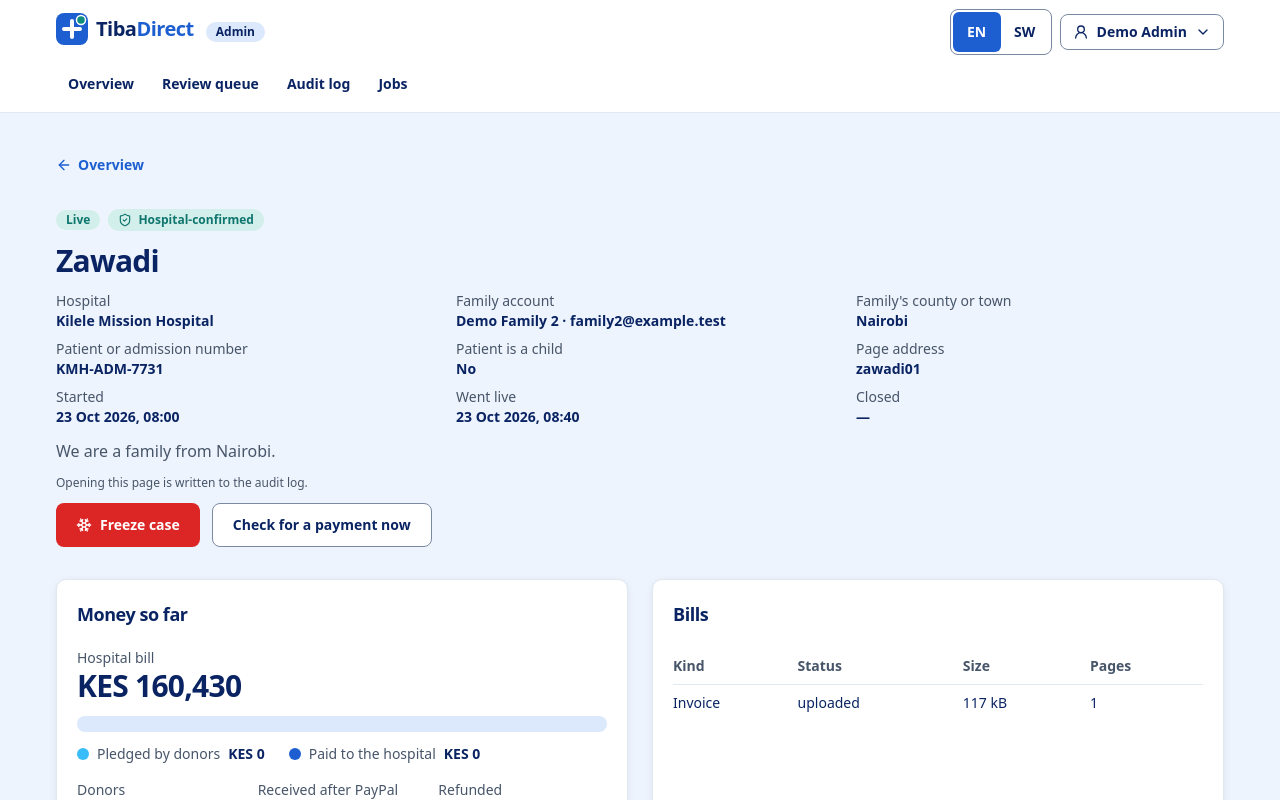
Test case: admin case detail › freezes a case only after a reason and an explicit confirmation
The width and height of the screenshot is (1280, 800).
Click the button "Freeze case" at (128, 525), box x1=56 y1=503 x2=200 y2=547
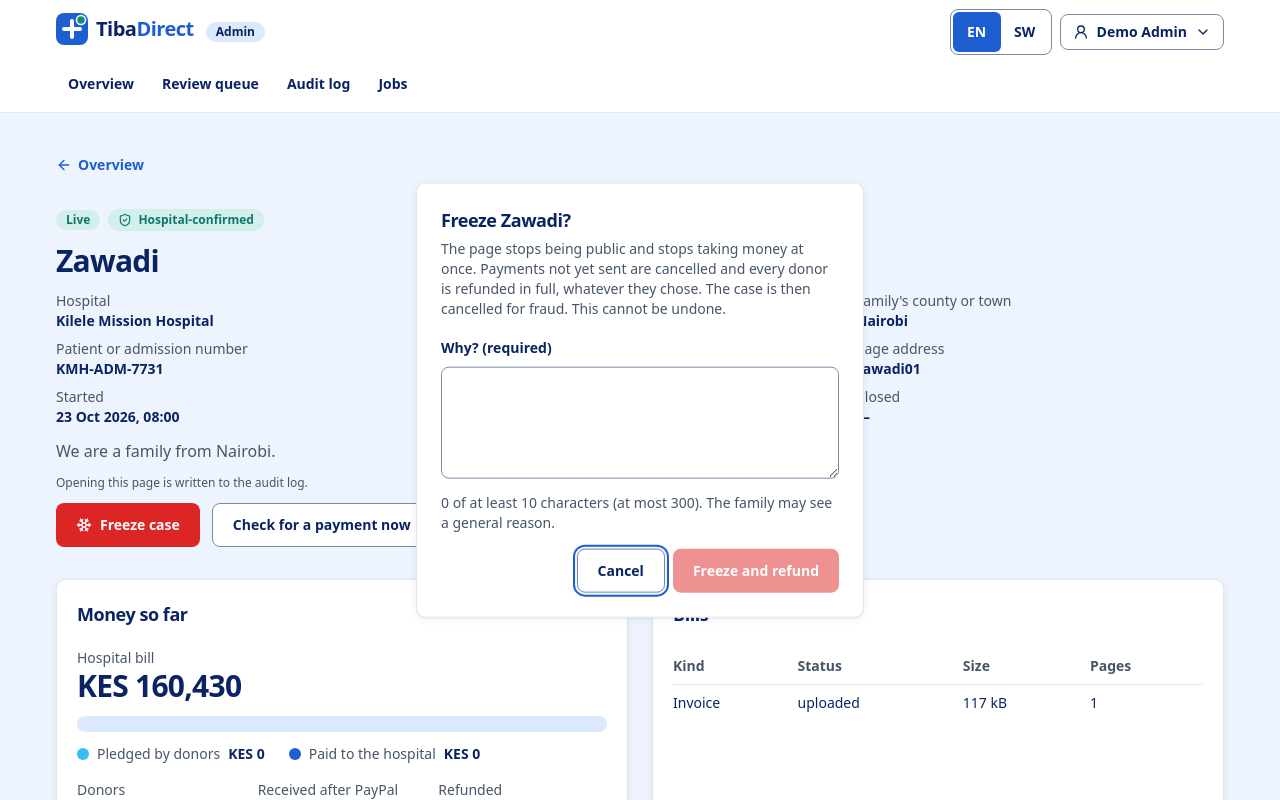
Expected: the text "every donor is refunded in full, whatever they chose" is shown, x1=441 y1=238 x2=828 y2=317
Expected: the button "Freeze and refund" is disabled, x1=673 y1=548 x2=839 y2=592
Type "Suspected fraud, see review item" into the text box labelled "Why? (required)" at (640, 422), box x1=441 y1=366 x2=839 y2=478
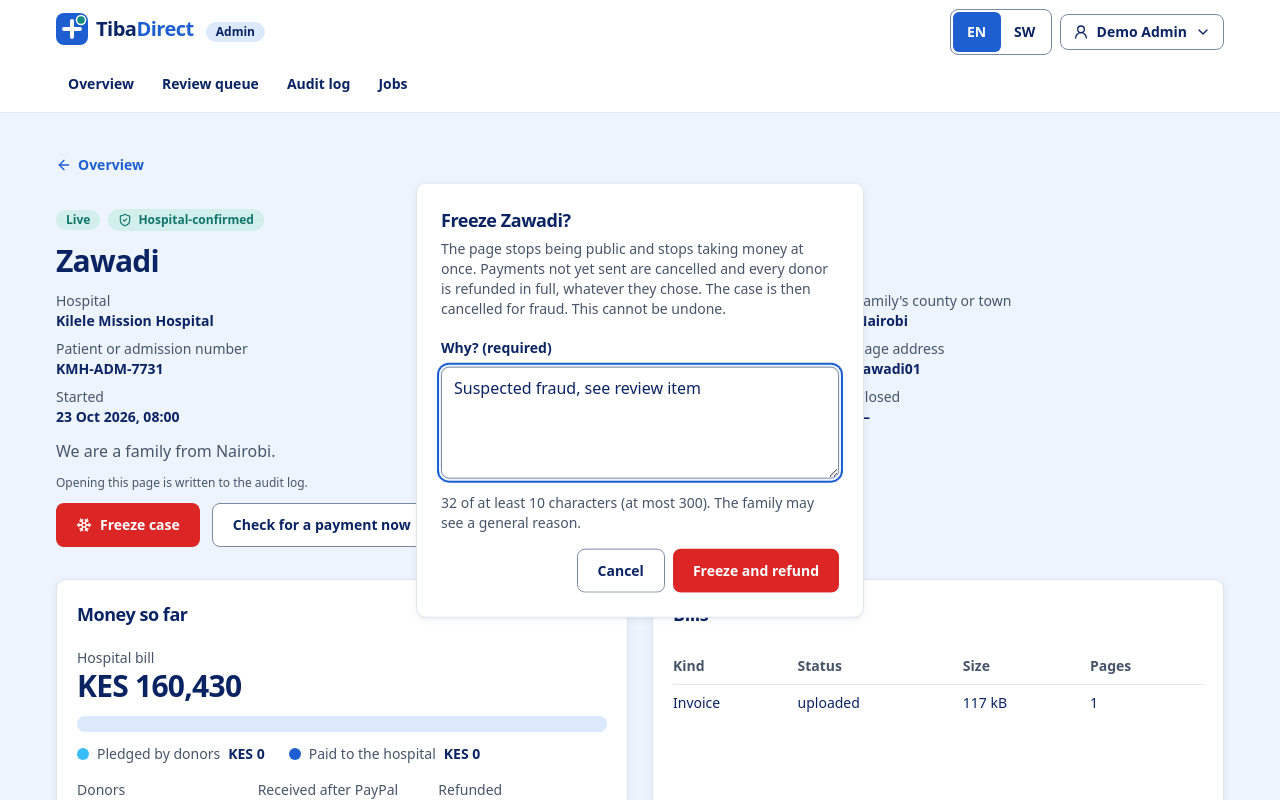
Click the button "Freeze and refund" at (756, 570), box x1=673 y1=548 x2=839 y2=592
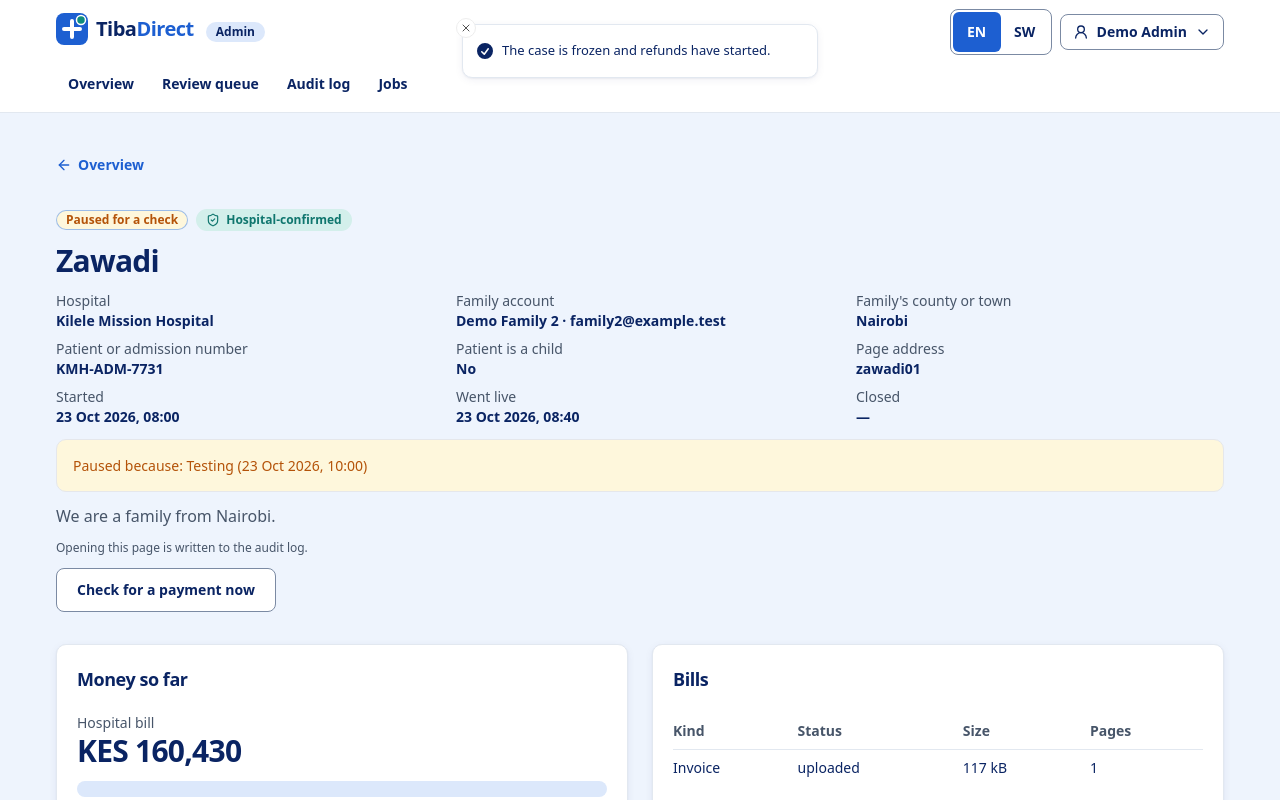
Expected: the text "Paused because: Testing (23 Oct 2026, 10:00)" is shown, x1=73 y1=456 x2=367 y2=475
Expected: the button "Freeze case" is gone
